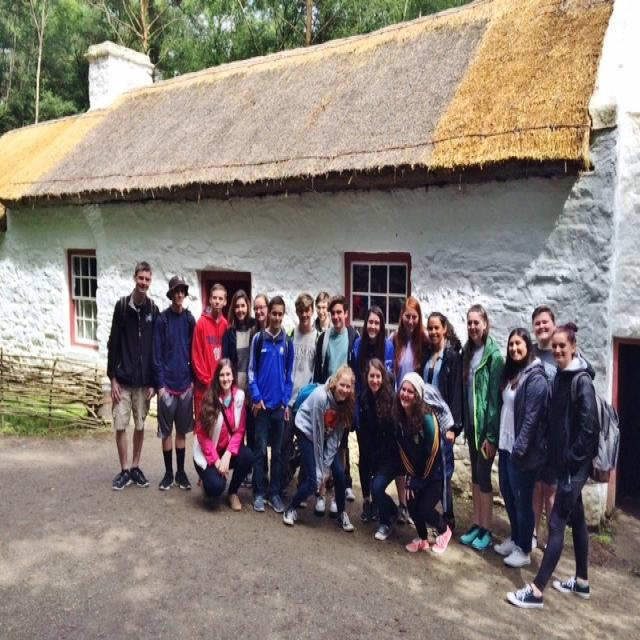body: (503, 320, 623, 612), (492, 324, 553, 568), (105, 258, 162, 491), (280, 361, 356, 532), (457, 303, 506, 553), (390, 368, 454, 556), (245, 294, 295, 514), (311, 292, 361, 504), (351, 301, 396, 524), (150, 275, 196, 492), (192, 355, 255, 512), (311, 290, 357, 502), (423, 310, 465, 538), (355, 354, 400, 542), (530, 304, 560, 555), (221, 288, 258, 484), (189, 281, 231, 424), (283, 291, 323, 424), (387, 294, 434, 398), (247, 293, 270, 348)
